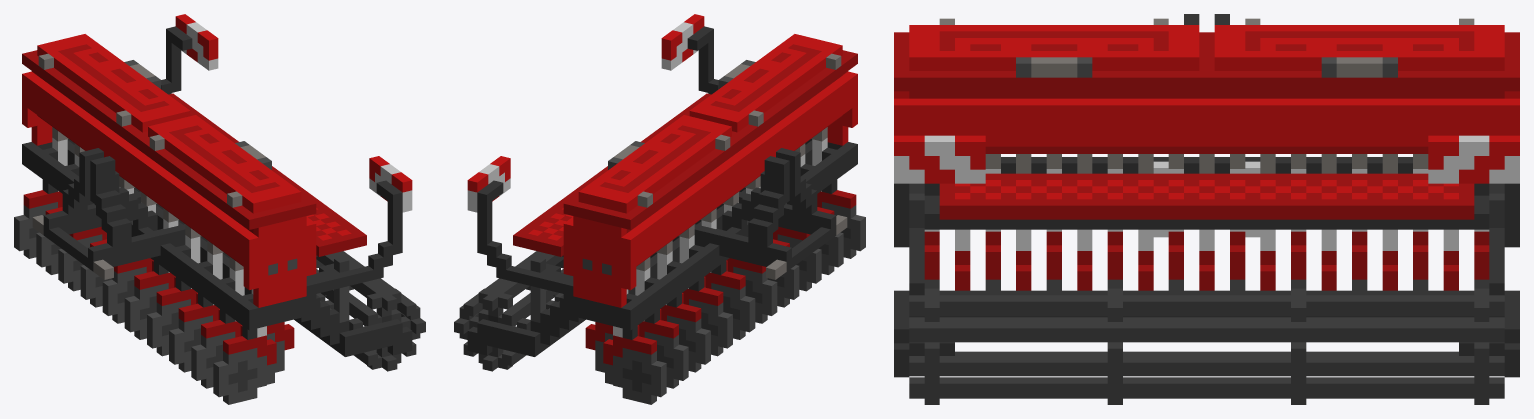
File: Seeder.obj
3 renders of one model, left to right at view 1: azimuth 30°, elevation 25°; view 2: azimuth 150°, elevation 25°; view 3: azimuth 270°, elevation 25°, orthographic. The views are drawn at different scales.
Bounding box in the file's own units: 2.6 × 2 × 4.1.
1 material, 1 textured.
